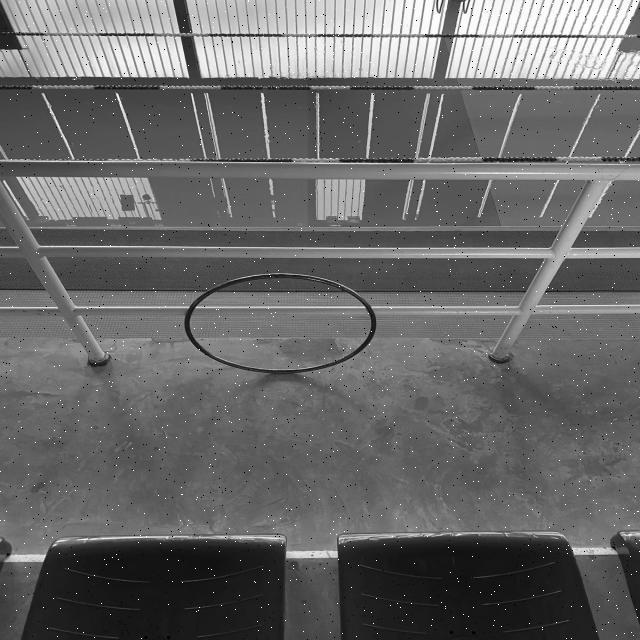Circle: (182, 272, 378, 374)
